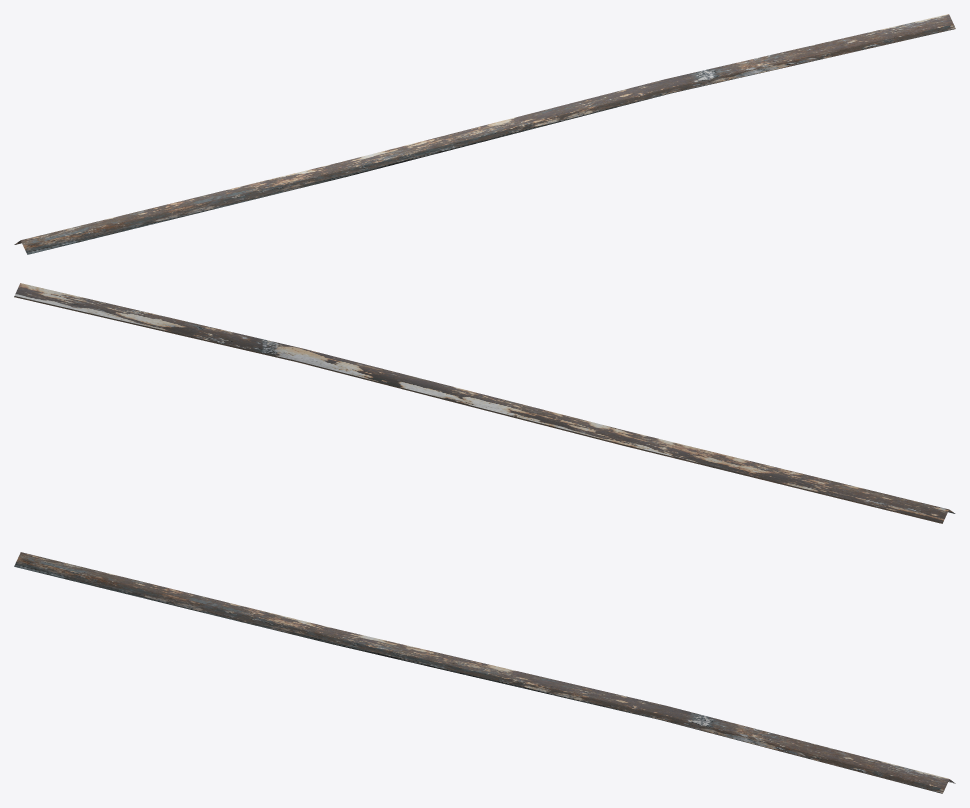
File: Peak_02.fbx
The picture shows the model from 3 angles, top to bottom: view 1: azimuth 30°, elevation 25°; view 2: azimuth 150°, elevation 25°; view 3: azimuth 330°, elevation 25°; orthographic projection.
Parts seen in each view (by area): view 1: Peak_02; view 2: Peak_02; view 3: Peak_02.
Part boxes in pixels (x1,y1,x2,y2): Peak_02: [14, 14, 955, 254]; Peak_02: [14, 283, 955, 523]; Peak_02: [14, 552, 955, 793].
Size of the model in its own units: 1262 by 32.11 by 17.77.
1 material, 1 textured.
